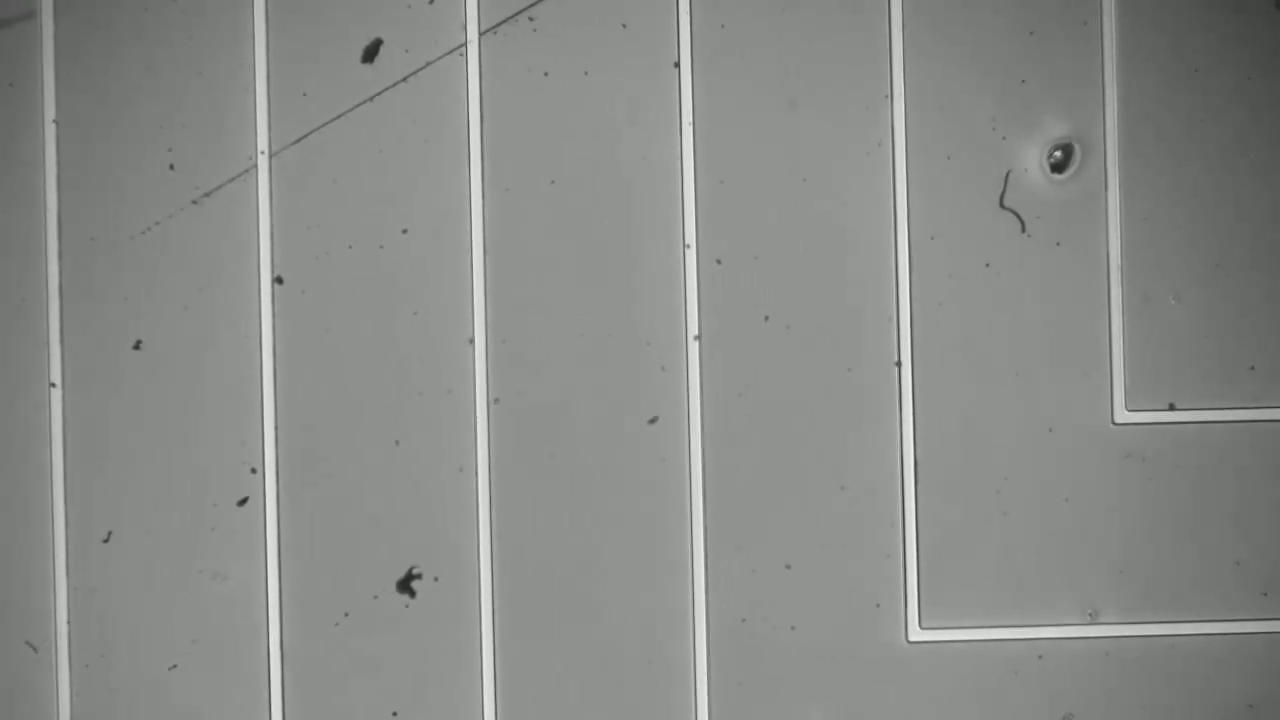scratch: (116, 1, 563, 239)
